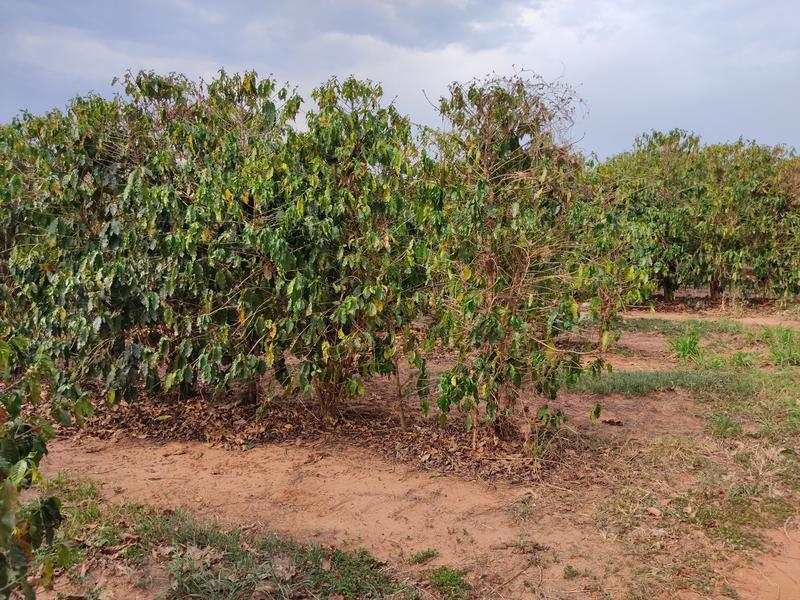coffee: (420, 64, 591, 456), (127, 68, 227, 409), (212, 76, 303, 423), (303, 76, 390, 429), (69, 90, 166, 406), (362, 127, 448, 447), (1, 108, 88, 401)
